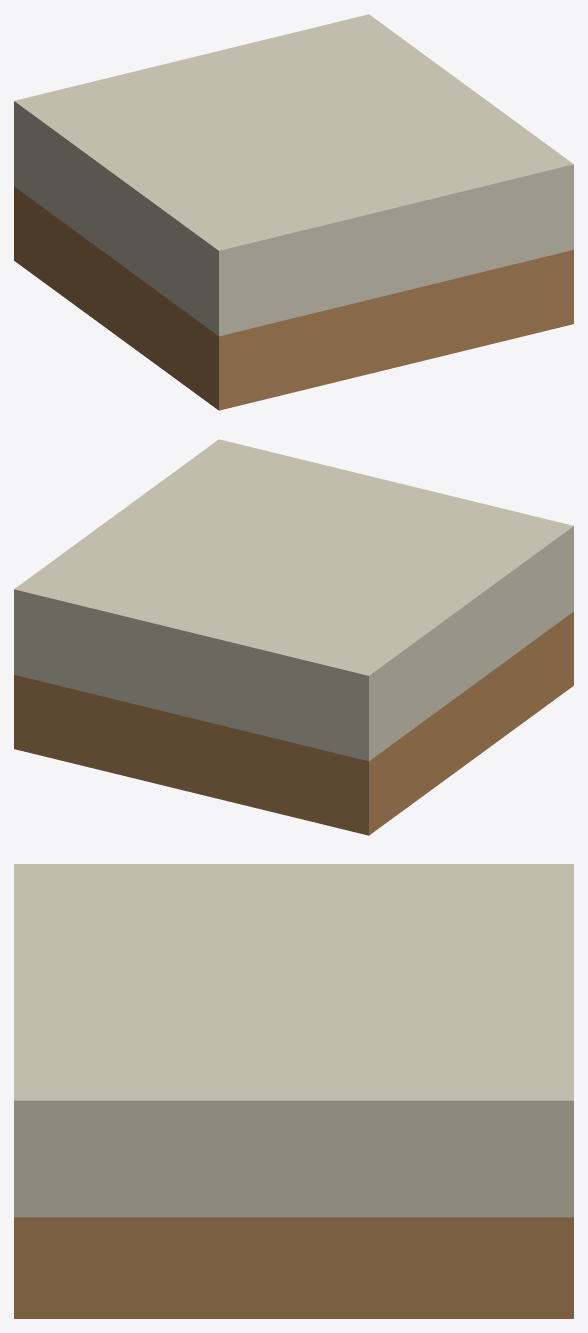
Rendered from Building 45.FBX.
3 renders of one model, top to bottom at view 1: azimuth 30°, elevation 25°; view 2: azimuth 150°, elevation 25°; view 3: azimuth 270°, elevation 25°, orthographic. The views are drawn at different scales.
Parts seen in each view (by area): view 1: Group162, Group163; view 2: Group162, Group163; view 3: Group162, Group163.
Part boxes in pixels (bbox=[...]): Group162: bbox=[14, 14, 573, 410]; Group163: bbox=[76, 36, 492, 206]; Group162: bbox=[14, 439, 573, 835]; Group163: bbox=[78, 477, 492, 653]; Group162: bbox=[14, 864, 573, 1318]; Group163: bbox=[114, 893, 533, 1068].
Size of the model in its own units: 39.37 by 16.93 by 39.37.
